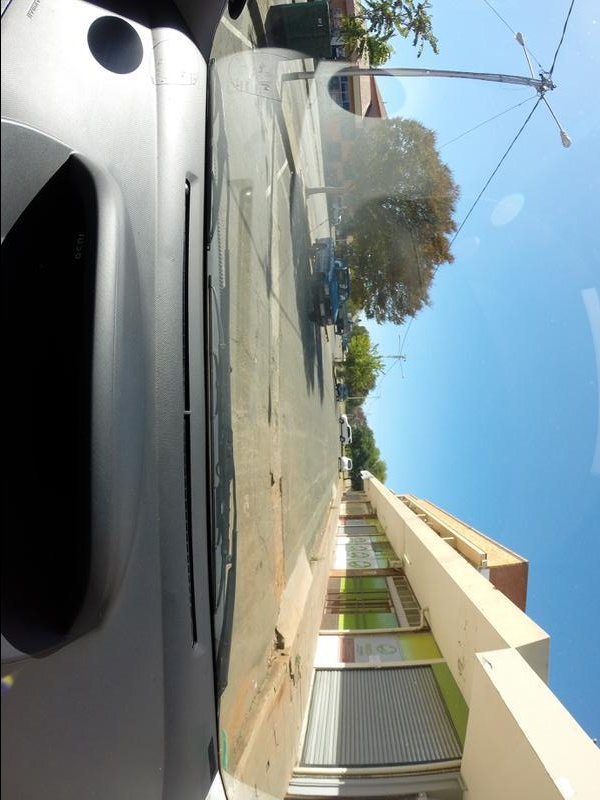pothole: (271, 480, 284, 603)
